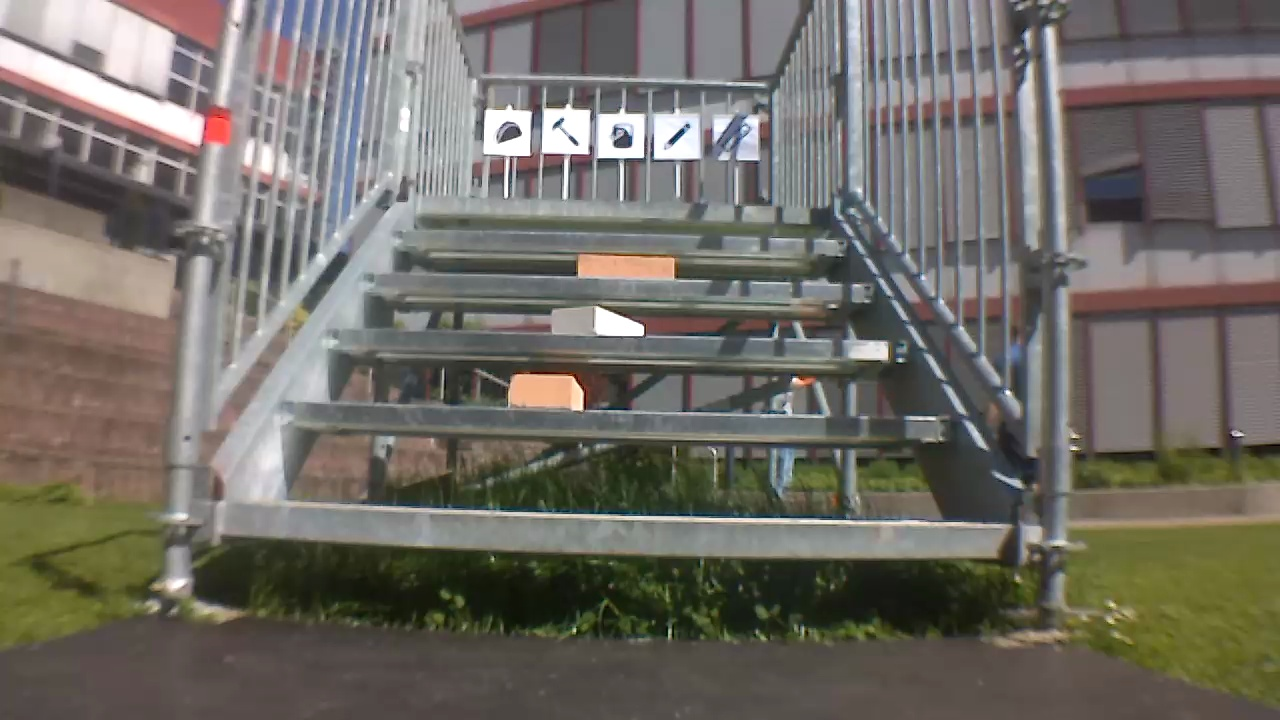brick: (546, 302, 650, 333), (497, 376, 582, 407), (578, 253, 679, 279)
bucket: (608, 121, 635, 149)
edge: (208, 510, 1017, 555), (282, 403, 952, 438), (323, 330, 910, 361), (363, 275, 877, 299), (391, 233, 853, 256), (418, 197, 831, 220)
hammer: (552, 114, 583, 149)
pencil: (659, 119, 696, 155)
ruler: (716, 119, 754, 152)
stairs: (162, 0, 1051, 617)
steps: (176, 192, 1035, 565)
taco: (492, 114, 521, 143)
